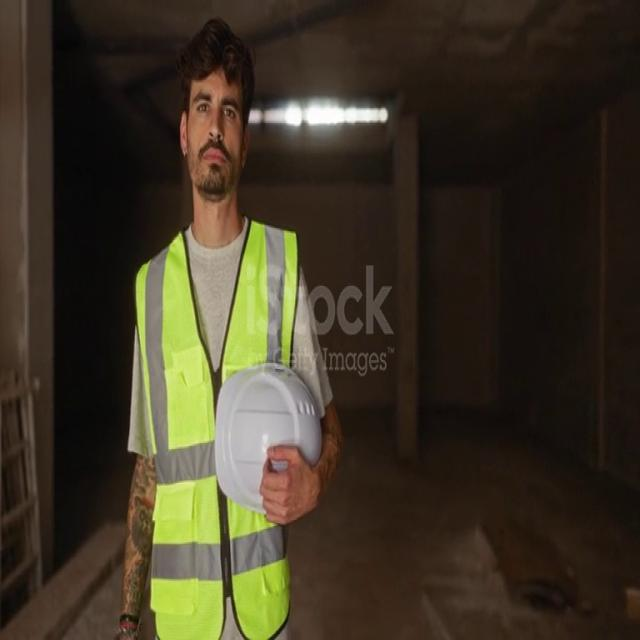sem_capacete: (159, 20, 277, 213)
